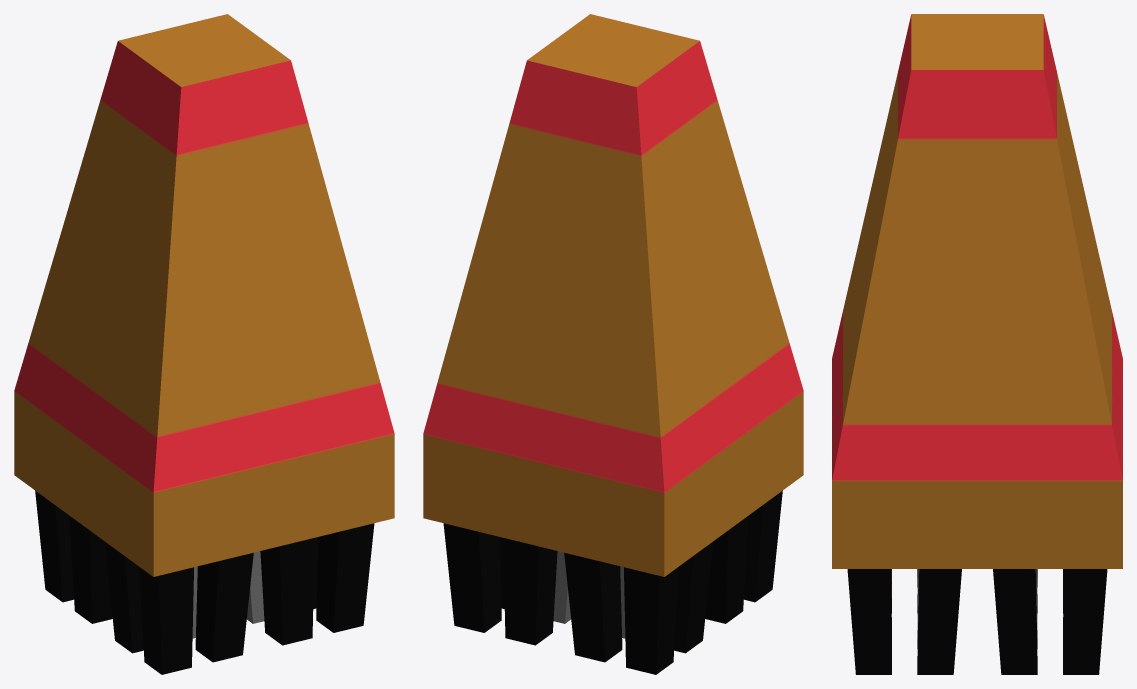
File: large.fbx
3 renders of one model, left to right at view 1: azimuth 30°, elevation 25°; view 2: azimuth 150°, elevation 25°; view 3: azimuth 270°, elevation 25°, orthographic. The views are drawn at different scales.
Visible parts, largest first — view 1: l1; view 2: l1; view 3: l1.
Boxes of the visible parts, x1=… form: l1: x1=14, y1=14, x2=394, y2=674; l1: x1=423, y1=14, x2=803, y2=674; l1: x1=832, y1=14, x2=1122, y2=674.
Bounding box in the file's own units: 600 × 1324 × 600.
1 material, 1 textured.
